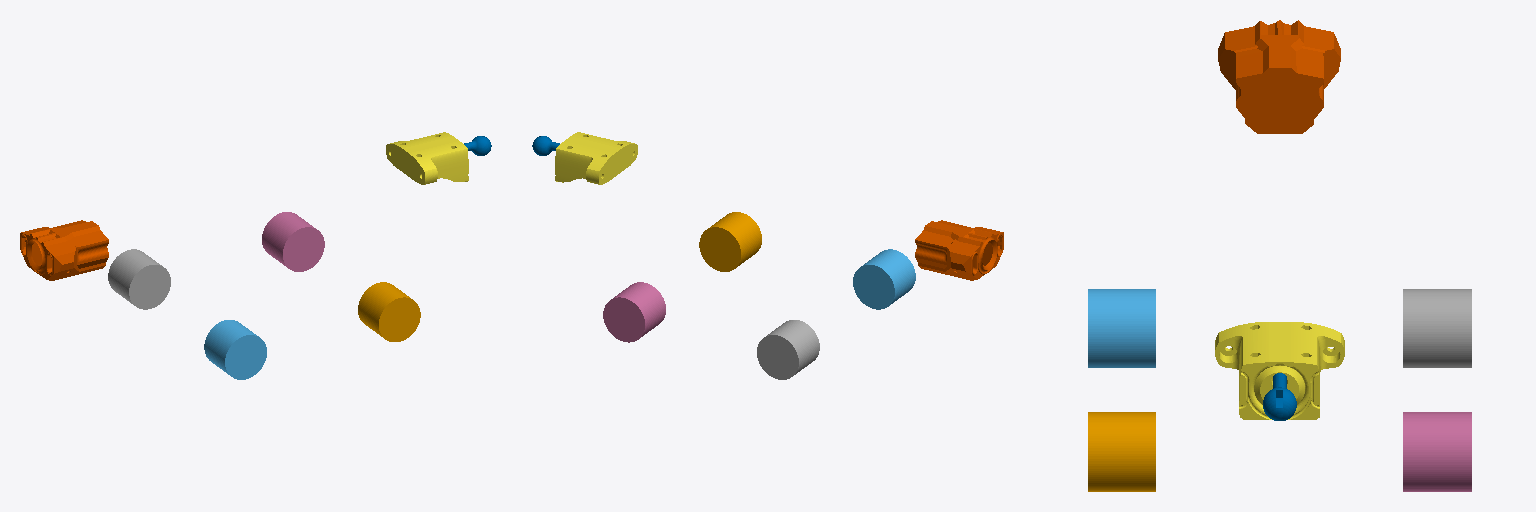
robot.urdf — v1_teko_for_usd_ready:
<?xml version='1.0' encoding='utf-8'?>
<robot name="v1_teko_for_usd_ready">
    <link name="teko_body">
        <inertial>
            <origin xyz="-0.03322487786188057 -3.210624819559104e-07 -0.01222742277589171" rpy="0.0 0.0 0.0" />
            <mass value="55.30155380400797" />
            <inertia ixx="0.2786499612735865" iyy="0.6148616643483823" izz="0.5051691379248819" ixy="8.485416470758536e-07" iyz="-2.6893582656831792e-06" ixz="0.01263665637919702" />
        </inertial>
        <visual name="teko_body_visual">
            <origin xyz="0.0 0.0 0.0" rpy="0.0 0.0 0.0" />
            <geometry>
                <mesh filename="meshes/teko_body.stl" scale="0.001 0.001 0.001" />
            </geometry>
        </visual>
        <collision name="teko_body_collision">
            <origin xyz="0.0 0.0 0.0" rpy="0.0 0.0 0.0" />
            <geometry>
                <mesh filename="meshes/teko_body.stl" scale="0.001 0.001 0.001" />
            </geometry>
        </collision>
    </link>
    <link name="teko_lidar">
        <inertial>
            <origin xyz="-1.7763568394002505e-17 -1.0157093023226922e-16 0.013450000000000016" rpy="0.0 -0.0 0.0" />
            <mass value="0.5930812388937148" />
            <inertia ixx="0.00016831843253549243" iyy="0.0001683184325355011" izz="0.0002651102791916809" ixy="-1.417197381670121e-18" iyz="3.2429099405817336e-19" ixz="-4.336808689942018e-19" />
        </inertial>
        <visual name="teko_lidar_visual">
            <origin xyz="-0.1376 0.0 0.0455" rpy="3.141592653589793 -0.0 0.0" />
            <geometry>
                <mesh filename="meshes/teko_lidar.stl" scale="0.001 0.001 0.001" />
            </geometry>
        </visual>
        <collision name="teko_lidar_collision">
            <origin xyz="-0.1376 0.0 0.0455" rpy="3.141592653589793 -0.0 0.0" />
            <geometry>
                <mesh filename="meshes/teko_lidar.stl" scale="0.001 0.001 0.001" />
            </geometry>
        </collision>
    </link>
    <link name="teko_camera">
        <inertial>
            <origin xyz="-1.479114197289397e-33 -0.035 0.0015000000000000213" rpy="0.0 -0.0 0.0" />
            <mass value="0.014130001214191378" />
            <inertia ixx="6.888377646920279e-07" iyy="7.465349676462276e-07" izz="1.414177730516831e-06" ixy="3.5214296447818196e-22" iyz="-2.710505431213761e-20" ixz="-9.151013280472862e-22" />
        </inertial>
        <visual name="teko_camera_visual">
            <origin xyz="-2.6023744481881267e-18 -0.0775 -0.17250000000000001" rpy="-1.5707963267948966 1.5707963267948966 0" />
            <geometry>
                <mesh filename="meshes/teko_camera.stl" scale="0.001 0.001 0.001" />
            </geometry>
        </visual>
        <collision name="teko_camera_collision">
            <origin xyz="-2.6023744481881267e-18 -0.0775 -0.17250000000000001" rpy="-1.5707963267948966 1.5707963267948966 0" />
            <geometry>
                <mesh filename="meshes/teko_camera.stl" scale="0.001 0.001 0.001" />
            </geometry>
        </collision>
    </link>
    <link name="teko_connect_male">
        <inertial>
            <origin xyz="1.2851451110364246e-05 0.012508471421193237 0.028637477444663766" rpy="0.0 -0.0 0.0" />
            <mass value="0.6070410060978664" />
            <inertia ixx="0.00021799578145698453" iyy="0.0003112272271409422" izz="0.00018351696205621887" ixy="1.2573674757801726e-07" iyz="-2.1845249203090826e-05" ixz="-2.9472485848962832e-08" />
        </inertial>
        <visual name="teko_connect_male_visual">
            <origin xyz="0.0004507494942305308 -0.05551125236737327 -0.17250000000000001" rpy="1.5707963267948968 -1.5707963267948966 0" />
            <geometry>
                <mesh filename="meshes/teko_connect_male.stl" scale="0.001 0.001 0.001" />
            </geometry>
        </visual>
        <collision name="teko_connect_male_collision">
            <origin xyz="0.0004507494942305308 -0.05551125236737327 -0.17250000000000001" rpy="1.5707963267948968 -1.5707963267948966 0" />
            <geometry>
                <mesh filename="meshes/teko_connect_male.stl" scale="0.001 0.001 0.001" />
            </geometry>
        </collision>
    </link>
    <link name="teko_pin">
        <inertial>
            <origin xyz="-0.0021138833462986018 4.895877659592601e-06 0.028069331254574975" rpy="0.0 -0.0 0.0" />
            <mass value="0.04124822257656457" />
            <inertia ixx="4.970374219001247e-06" iyy="4.978093813264549e-06" izz="1.401522672915713e-06" ixy="1.8001458984546494e-11" iyz="-1.0585795096708065e-09" ixz="4.563625663486044e-07" />
        </inertial>
        <visual name="teko_pin_visual">
            <origin xyz="0.054917629052547226 0.00022318111558906358 -0.22340000000000002" rpy="-3.141592653589793 -1.5707963267948966 0" />
            <geometry>
                <mesh filename="meshes/teko_pin.stl" scale="0.001 0.001 0.001" />
            </geometry>
        </visual>
        <collision name="teko_pin_collision">
            <origin xyz="0.054917629052547226 0.00022318111558906358 -0.22340000000000002" rpy="-3.141592653589793 -1.5707963267948966 0" />
            <geometry>
                <mesh filename="meshes/teko_pin.stl" scale="0.001 0.001 0.001" />
            </geometry>
        </collision>
    </link>
    <link name="teko_connect_female">
        <inertial>
            <origin xyz="-0.05272051512398969 -0.00014116164225701528 0.029277598163811727" rpy="0.0 -0.0 0.0" />
            <mass value="0.7378276822773233" />
            <inertia ixx="0.0004584022715899243" iyy="0.00035624680955673865" izz="0.0002877800509507389" ixy="1.1841968589660358e-07" iyz="3.5006063005911777e-07" ixz="-9.997220132536636e-06" />
        </inertial>
        <visual name="teko_connect_female_visual">
            <origin xyz="0.01579675177311726 0.0014317706669016526 -0.17256471994939027" rpy="-1.570796326794907 1.5633679107606986 -1.5707963267948968" />
            <geometry>
                <mesh filename="meshes/teko_connect_female.stl" scale="0.001 0.001 0.001" />
            </geometry>
        </visual>
        <collision name="teko_connect_female_collision">
            <origin xyz="0.01579675177311726 0.0014317706669016526 -0.17256471994939027" rpy="-1.570796326794907 1.5633679107606986 -1.5707963267948968" />
            <geometry>
                <mesh filename="meshes/teko_connect_female.stl" scale="0.001 0.001 0.001" />
            </geometry>
        </collision>
    </link>
    <link name="teko_FL">
        <inertial>
            <origin xyz="-3.552713678800501e-17 -3.552713678800501e-17 -0.020200000000000138" rpy="0.0 -0.0 0.0" />
            <mass value="0.5429860236533911" />
            <inertia ixx="0.000147833694935387" iyy="0.00014783369493538527" izz="0.0001479607118097491" ixy="0.0" iyz="-1.734723475976807e-18" ixz="1.734723475976807e-18" />
        </inertial>
        <visual name="teko_FL_visual">
            <origin xyz="-0.10093 0.1625 0.0723" rpy="-1.5707963267948966 -0.0 0.0" />
            <geometry>
                <mesh filename="meshes/teko_FL.stl" scale="0.001 0.001 0.001" />
            </geometry>
        </visual>
        <collision name="teko_FL_collision">
            <origin xyz="-0.10093 0.1625 0.0723" rpy="-1.5707963267948966 -0.0 0.0" />
            <geometry>
                <mesh filename="meshes/teko_FL.stl" scale="0.001 0.001 0.001" />
            </geometry>
        </collision>
    </link>
    <link name="teko_BL">
        <inertial>
            <origin xyz="-5.329070518200751e-17 -3.552713678800501e-17 -0.020200000000000155" rpy="0.0 -0.0 0.0" />
            <mass value="0.5429860236533901" />
            <inertia ixx="0.0001478336949353766" iyy="0.0001478336949353818" izz="0.00014796071180974216" ixy="1.734723475976807e-18" iyz="0.0" ixz="1.3010426069826053e-18" />
        </inertial>
        <visual name="teko_BL_visual">
            <origin xyz="0.07007 0.1625 0.0723" rpy="-1.5707963267948966 -0.0 0.0" />
            <geometry>
                <mesh filename="meshes/teko_BL.stl" scale="0.001 0.001 0.001" />
            </geometry>
        </visual>
        <collision name="teko_BL_collision">
            <origin xyz="0.07007 0.1625 0.0723" rpy="-1.5707963267948966 -0.0 0.0" />
            <geometry>
                <mesh filename="meshes/teko_BL.stl" scale="0.001 0.001 0.001" />
            </geometry>
        </collision>
    </link>
    <link name="teko_FR">
        <inertial>
            <origin xyz="-1.7763568394002505e-17 -7.105427357601002e-17 0.0201" rpy="0.0 -0.0 0.0" />
            <mass value="0.5402979740313447" />
            <inertia ixx="0.00014637604468200477" iyy="0.0001463760446820065" izz="0.00014722823303840726" ixy="-1.734723475976807e-18" iyz="0.0" ixz="1.734723475976807e-18" />
        </inertial>
        <visual name="teko_FR_visual">
            <origin xyz="-0.10093 0.1625 -0.0725" rpy="-1.5707963267948966 -0.0 0.0" />
            <geometry>
                <mesh filename="meshes/teko_FR.stl" scale="0.001 0.001 0.001" />
            </geometry>
        </visual>
        <collision name="teko_FR_collision">
            <origin xyz="-0.10093 0.1625 -0.0725" rpy="-1.5707963267948966 -0.0 0.0" />
            <geometry>
                <mesh filename="meshes/teko_FR.stl" scale="0.001 0.001 0.001" />
            </geometry>
        </collision>
    </link>
    <link name="teko_BR">
        <inertial>
            <origin xyz="-5.329070518200751e-17 -7.105427357601002e-17 0.0201" rpy="0.0 -0.0 0.0" />
            <mass value="0.5402979740313437" />
            <inertia ixx="0.00014637604468200824" iyy="0.00014637604468200477" izz="0.00014722823303840726" ixy="8.673617379884035e-19" iyz="0.0" ixz="0.0" />
        </inertial>
        <visual name="teko_BR_visual">
            <origin xyz="0.07007 0.1625 -0.0725" rpy="-1.5707963267948966 -0.0 0.0" />
            <geometry>
                <mesh filename="meshes/teko_BR.stl" scale="0.001 0.001 0.001" />
            </geometry>
        </visual>
        <collision name="teko_BR_collision">
            <origin xyz="0.07007 0.1625 -0.0725" rpy="-1.5707963267948966 -0.0 0.0" />
            <geometry>
                <mesh filename="meshes/teko_BR.stl" scale="0.001 0.001 0.001" />
            </geometry>
        </collision>
    </link>
    <joint name="teko_connect_male_pin_joint" type="prismatic">
        <origin xyz="7.336e-05 0.009346610000000002 0.0509" rpy="0.0 -0.0 -1.5707963267948966" />
        <parent link="teko_connect_male" />
        <child link="teko_pin" />
        <axis xyz="0.0 0.0 1.0" />
        <limit lower="-0.015" upper="0.0" effort="1000000" velocity="1000000" />
    </joint>
    <joint name="teko_body_male_joint" type="fixed">
        <origin xyz="0.17250000000000001 0.0 -0.0475" rpy="-1.5707963267948966 -0.0 -1.5707963267948966" />
        <parent link="teko_body" />
        <child link="teko_connect_male" />
    </joint>
    <joint name="teko_body_female_joint" type="fixed">
        <origin xyz="-0.17250000000000001 0.0 -0.01" rpy="-0.0 -1.5707963267948966 0" />
        <parent link="teko_body" />
        <child link="teko_connect_female" />
    </joint>
    <joint name="teko_body_front_right" type="continuous">
        <origin xyz="0.10093 -0.0725 -0.1625" rpy="1.5707963267948966 -0.0 0.0" />
        <parent link="teko_body" />
        <child link="teko_FR" />
        <axis xyz="0.0 0.0 1.0" />
    </joint>
    <joint name="teko_body_back_right" type="continuous">
        <origin xyz="-0.07007 -0.0725 -0.1625" rpy="1.5707963267948966 -0.0 0.0" />
        <parent link="teko_body" />
        <child link="teko_BR" />
        <axis xyz="0.0 0.0 1.0" />
    </joint>
    <joint name="teko_body_lidar_joint" type="continuous">
        <origin xyz="0.1376 0.0 0.0455" rpy="3.141592653589793 -0.0 0.0" />
        <parent link="teko_body" />
        <child link="teko_lidar" />
        <axis xyz="0.0 0.0 1.0" />
    </joint>
    <joint name="teko_body_camera_joint" type="fixed">
        <origin xyz="-0.17250000000000001 0.0 0.08750000000000001" rpy="1.5707963267948966 -0.0 -1.5707963267948966" />
        <parent link="teko_body" />
        <child link="teko_camera" />
    </joint>
    <joint name="teko_body_front_left" type="continuous">
        <origin xyz="0.10093 0.0723 -0.1625" rpy="1.5707963267948966 -0.0 0.0" />
        <parent link="teko_body" />
        <child link="teko_FL" />
        <axis xyz="0.0 0.0 1.0" />
    </joint>
    <joint name="teko_body_back_left" type="continuous">
        <origin xyz="-0.07007 0.0723 -0.1625" rpy="1.5707963267948966 -0.0 0.0" />
        <parent link="teko_body" />
        <child link="teko_BL" />
        <axis xyz="0.0 0.0 1.0" />
    </joint>
</robot>

--- What the picture shows (computed from the rendered views, not written in the file) ---
The picture shows the robot from 3 angles, left to right: view 1: azimuth 30°, elevation 25°; view 2: azimuth 150°, elevation 25°; view 3: azimuth 270°, elevation 25°; orthographic projection.
Model v1_teko_for_usd_ready with 10 links and 9 joints (5 continuous, 1 prismatic, 3 fixed), rooted at teko_body, posed all joints at 0.
Links seen in each view (by area): view 1: teko_connect_female, teko_connect_male, teko_BL, teko_FL, teko_BR, teko_FR; view 2: teko_connect_female, teko_connect_male, teko_BL, teko_FL, teko_BR, teko_FR; view 3: teko_connect_female, teko_connect_male, teko_FL, teko_BL, teko_FR, teko_BR, teko_pin.
Link boxes in pixels (<box>): teko_connect_female: <box>20,220,108,280</box>; teko_connect_male: <box>386,132,468,184</box>; teko_BL: <box>108,249,170,309</box>; teko_FL: <box>262,212,324,271</box>; teko_BR: <box>204,320,266,379</box>; teko_FR: <box>358,282,420,341</box>; teko_connect_female: <box>915,220,1003,280</box>; teko_connect_male: <box>555,132,637,184</box>; teko_BL: <box>757,320,819,379</box>; teko_FL: <box>603,282,665,342</box>; teko_BR: <box>853,249,915,309</box>; teko_FR: <box>699,212,761,271</box>; teko_connect_female: <box>1218,20,1340,133</box>; teko_connect_male: <box>1215,322,1344,419</box>; teko_FL: <box>1403,412,1471,491</box>; teko_BL: <box>1403,289,1471,367</box>; teko_FR: <box>1088,412,1155,491</box>; teko_BR: <box>1088,289,1155,367</box>; teko_pin: <box>1263,373,1296,420</box>.
Size in the robot's own frame: 0.5074 by 0.2254 by 0.1443 metres.
7 mesh visuals loaded from 10 distinct referenced files (7 binary STL); not drawn: 3 (reference not matched to a file when rendering).